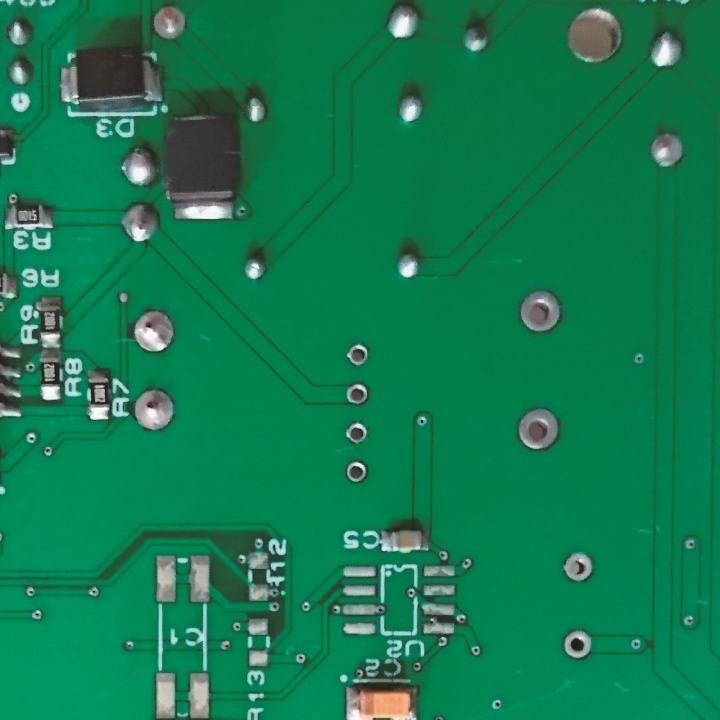F: (517, 405, 560, 458), (516, 288, 563, 335), (133, 386, 179, 432), (132, 309, 176, 356), (644, 131, 686, 170), (151, 4, 189, 43), (561, 547, 596, 586), (559, 627, 592, 658), (343, 418, 370, 448), (344, 341, 370, 369), (343, 458, 368, 486), (346, 380, 370, 407)
